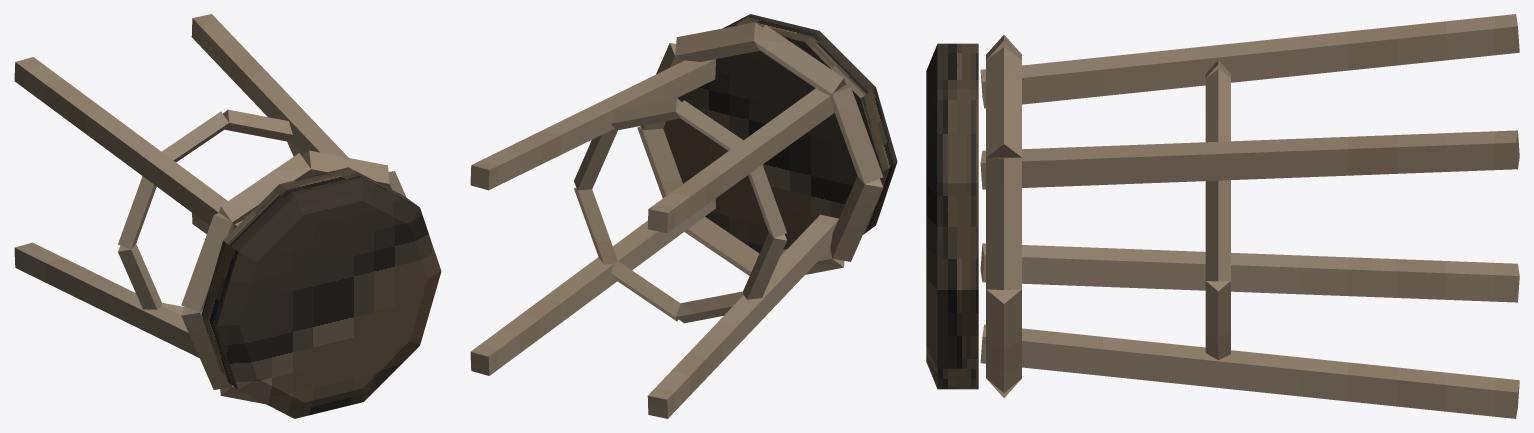
Rendered from pz_house_stool_blue_fidelity_r1.obj.
3 views of the same model, side by side, from view 1: azimuth 30°, elevation 25°; view 2: azimuth 150°, elevation 25°; view 3: azimuth 270°, elevation 25° (orthographic). The views are drawn at different scales.
Visible parts, largest first — view 1: seat, wood; view 2: wood, seat; view 3: wood, seat.
Boxes of the visible parts, x1,y1,x2,y2 form: seat: (201, 167, 441, 418); wood: (14, 14, 406, 404); wood: (470, 22, 883, 418); seat: (663, 14, 897, 253); wood: (980, 14, 1519, 418); seat: (926, 43, 978, 389).
Bounding box in the file's own units: 0.4795 × 0.4795 × 0.7457.
1 material, 1 textured.
